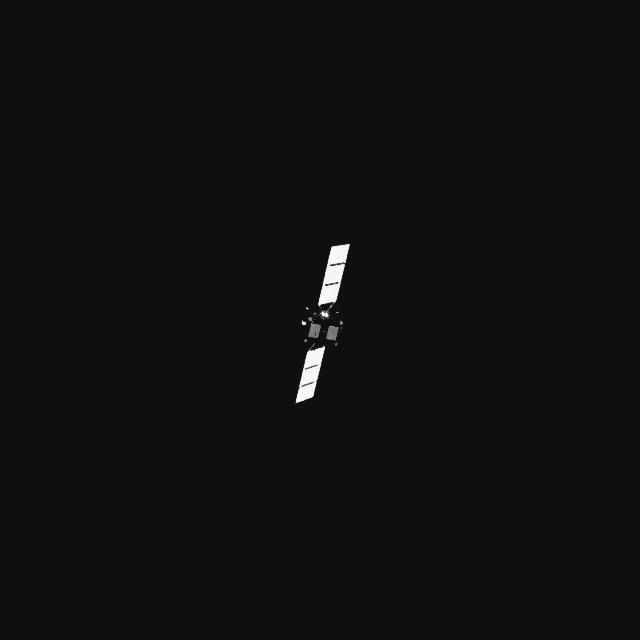medium_debris: (298, 246, 351, 404)
